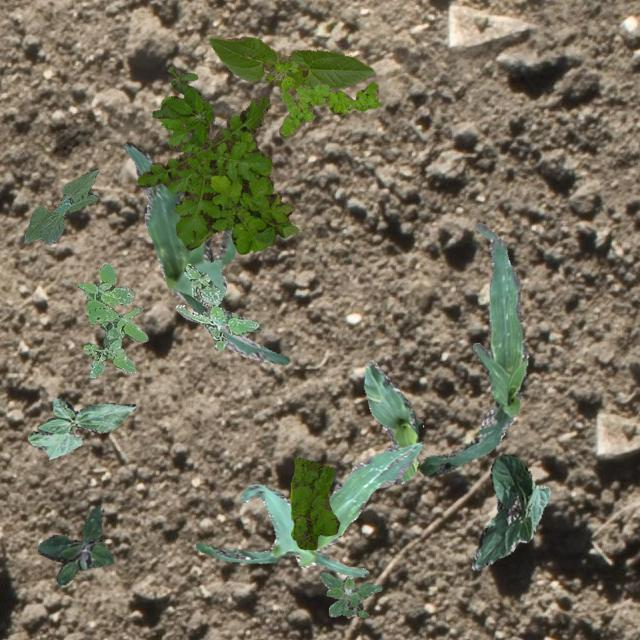crop: (122, 140, 288, 364), (196, 442, 422, 576), (418, 222, 528, 474), (470, 452, 550, 570), (208, 36, 372, 92), (362, 359, 420, 484), (27, 396, 134, 458), (23, 166, 98, 242)
weed: (136, 94, 298, 253), (264, 59, 380, 140), (76, 262, 146, 378), (174, 262, 258, 350), (36, 504, 112, 584), (152, 64, 212, 144), (290, 456, 338, 548), (319, 572, 382, 616)
